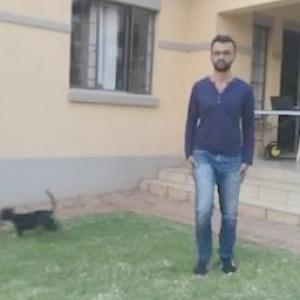follow: (178, 38, 253, 268)
